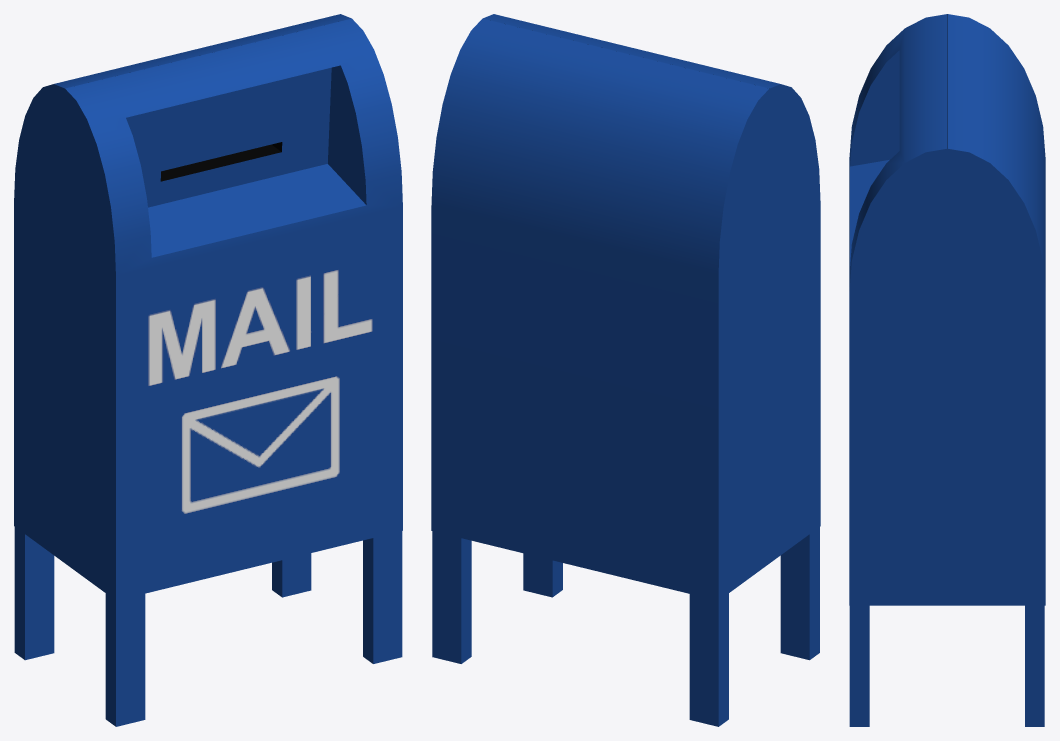
File: Mailbox.fbx
3 renders of one model, left to right at view 1: azimuth 30°, elevation 25°; view 2: azimuth 150°, elevation 25°; view 3: azimuth 270°, elevation 25°, orthographic. The views are drawn at different scales.
Parts seen in each view (by area): view 1: pCube20; view 2: pCube20; view 3: pCube20.
Boxes of the visible parts, <box> form: pCube20: <box>14,14,402,726</box>; pCube20: <box>431,14,820,726</box>; pCube20: <box>849,14,1045,726</box>.
Bounding box in the file's own units: 3.85 × 7.7 × 2.37.
